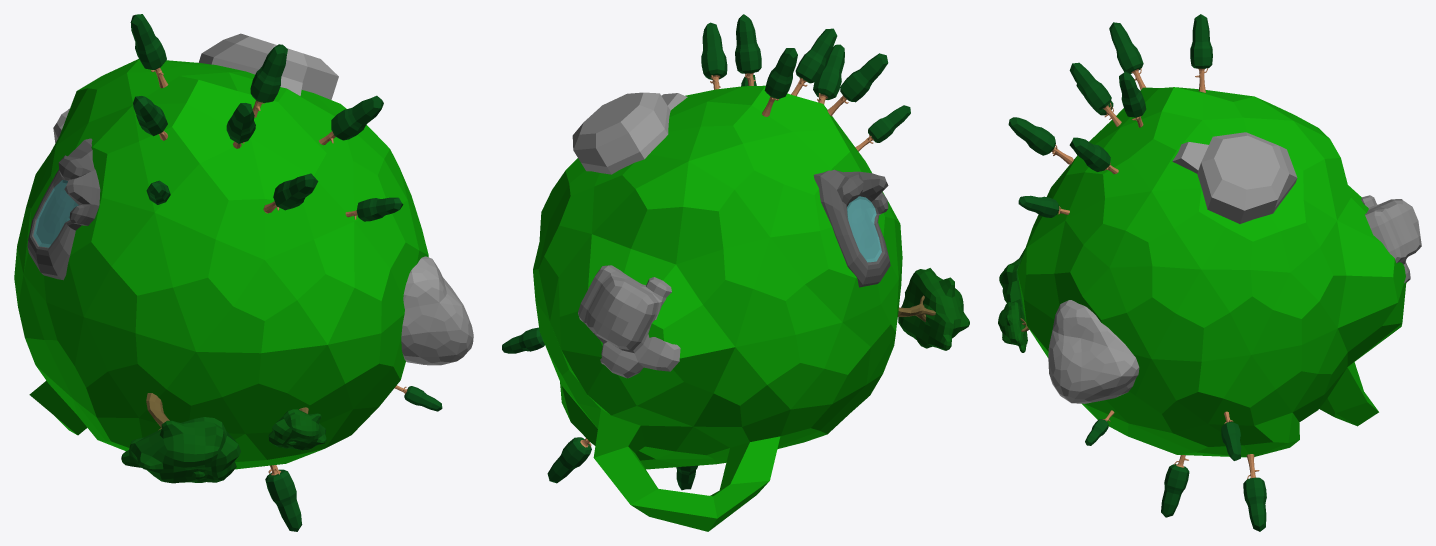
File: Star2.fbx
The picture shows the model from 3 angles, left to right: view 1: azimuth 30°, elevation 25°; view 2: azimuth 150°, elevation 25°; view 3: azimuth 270°, elevation 25°; orthographic projection. The views are drawn at different scales.
Visible parts, largest first — view 1: Cube; view 2: Cube; view 3: Cube.
Boxes of the visible parts, x1=… form: Cube: x1=14, y1=14, x2=473, y2=531; Cube: x1=502, y1=14, x2=969, y2=531; Cube: x1=998, y1=14, x2=1421, y2=531.
Size of the model in its own units: 209 by 269 by 232.
